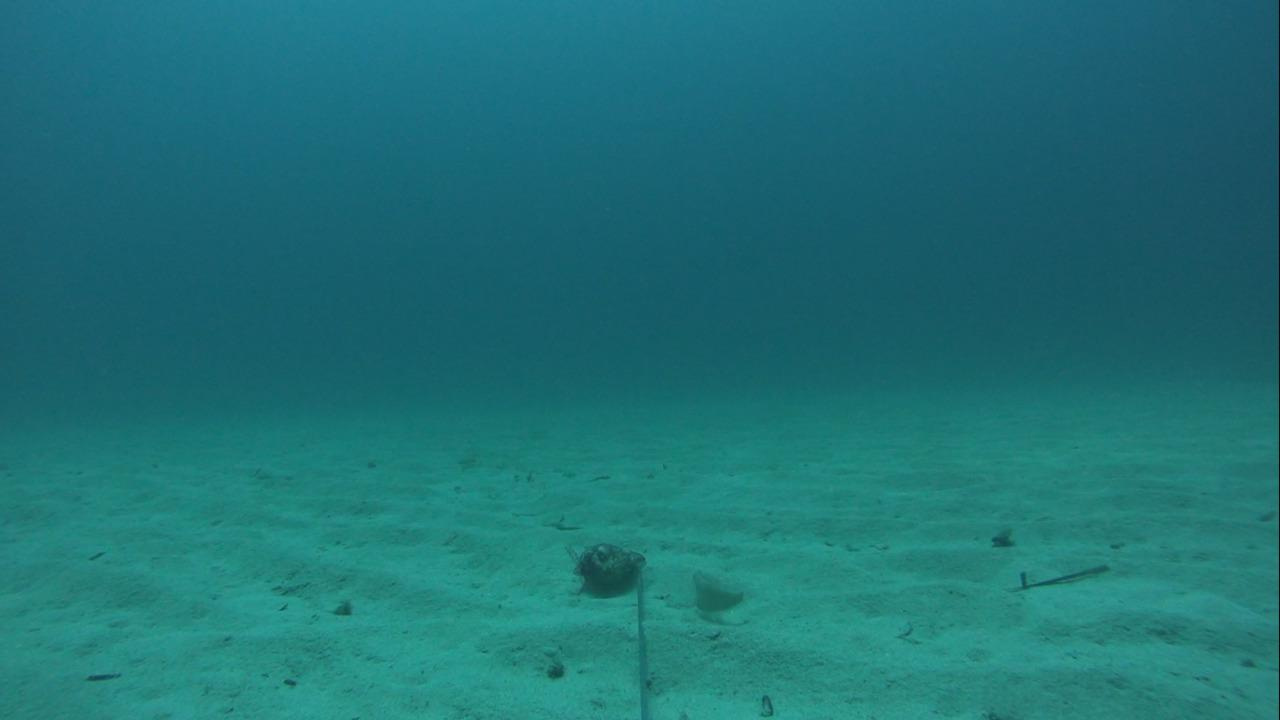raor: (680, 564, 749, 614)
